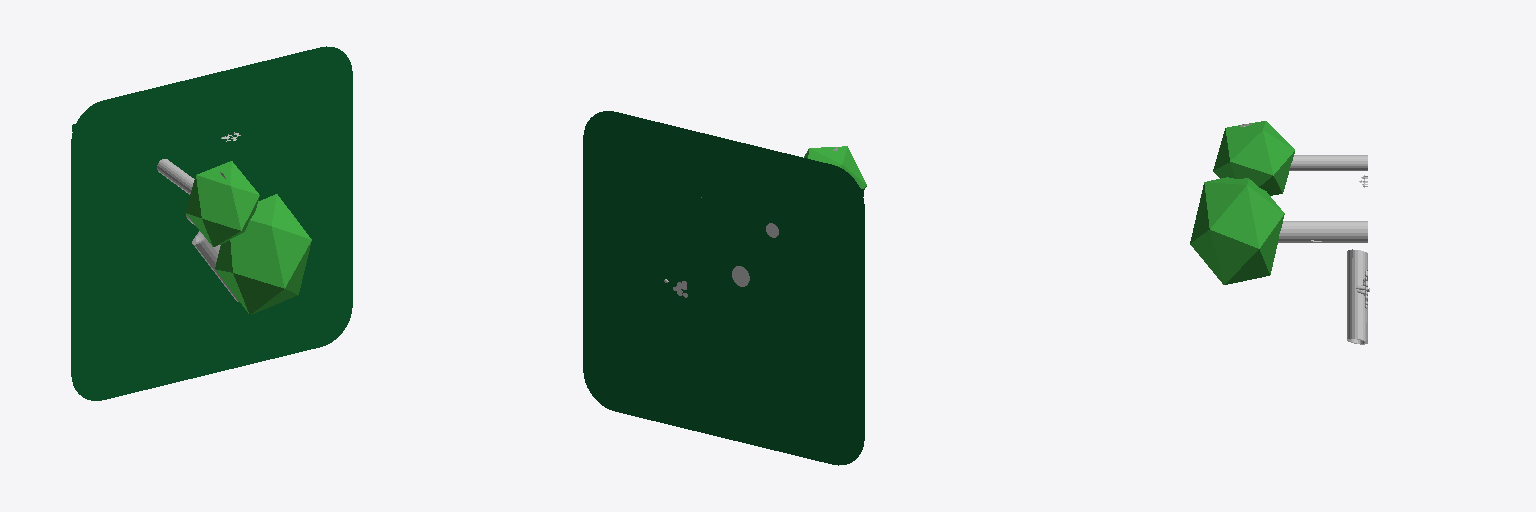
The model's file is woods.obj.
The picture shows the model from 3 angles: view 1: azimuth 30°, elevation 25°; view 2: azimuth 150°, elevation 25°; view 3: azimuth 270°, elevation 25°; orthographic projection.
Visible parts, largest first — view 1: obj_0; view 2: obj_0; view 3: obj_0.
Part boxes in pixels (bbox=[...]): obj_0: bbox=[71, 46, 352, 400]; obj_0: bbox=[583, 111, 866, 465]; obj_0: bbox=[1190, 121, 1369, 344].
Bounding box in the file's own units: 314 × 320 × 174.